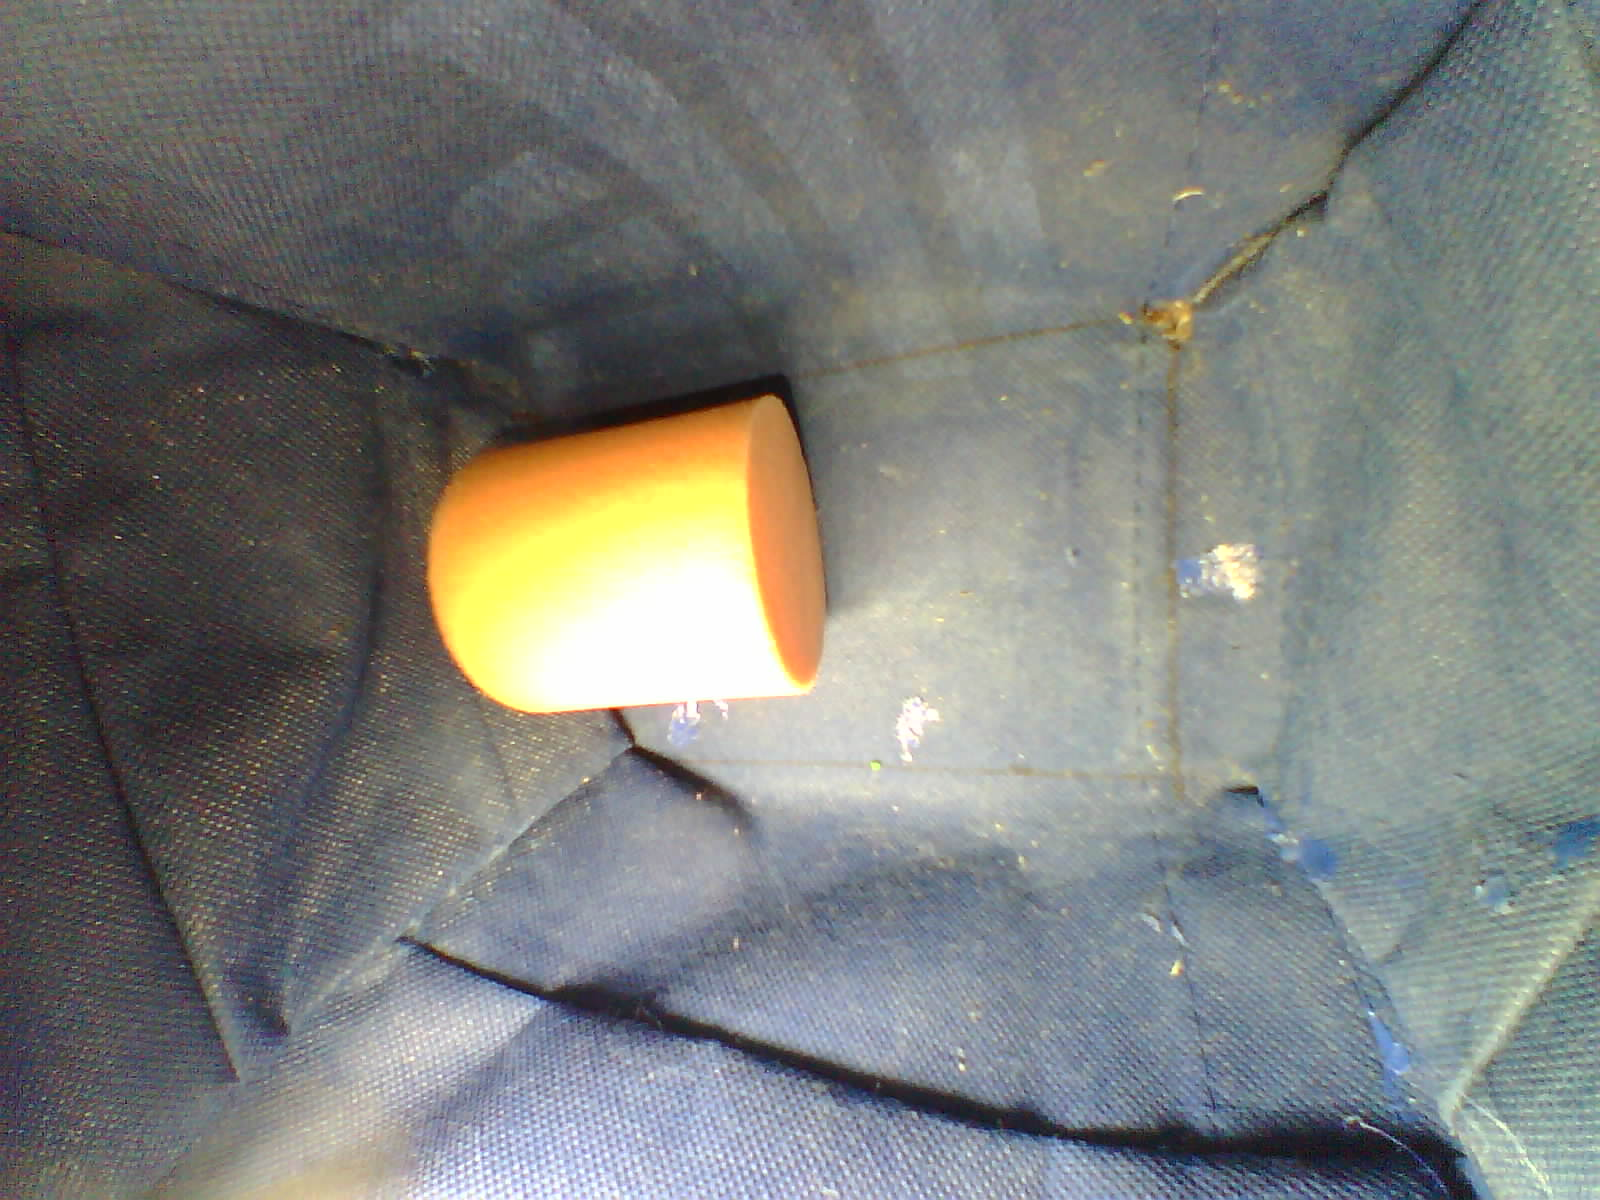cylinder-soft: (412, 376, 855, 729)
